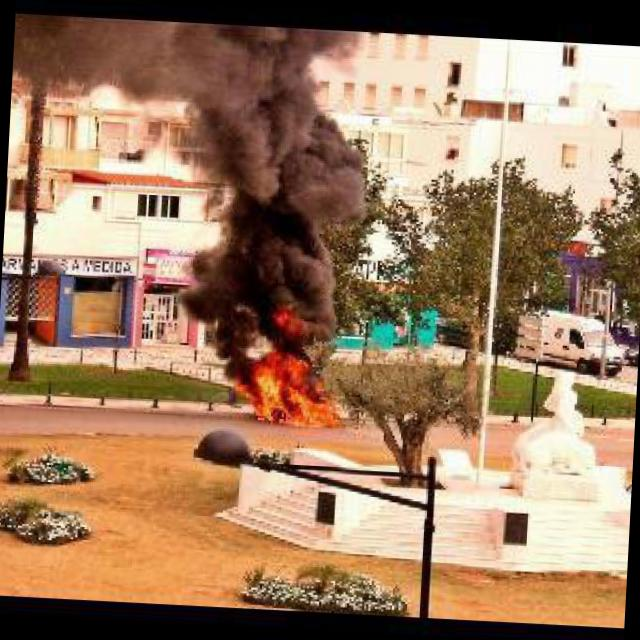fire: (215, 344, 348, 424), (264, 298, 322, 337)
smoke: (144, 19, 368, 341), (23, 12, 160, 98)
